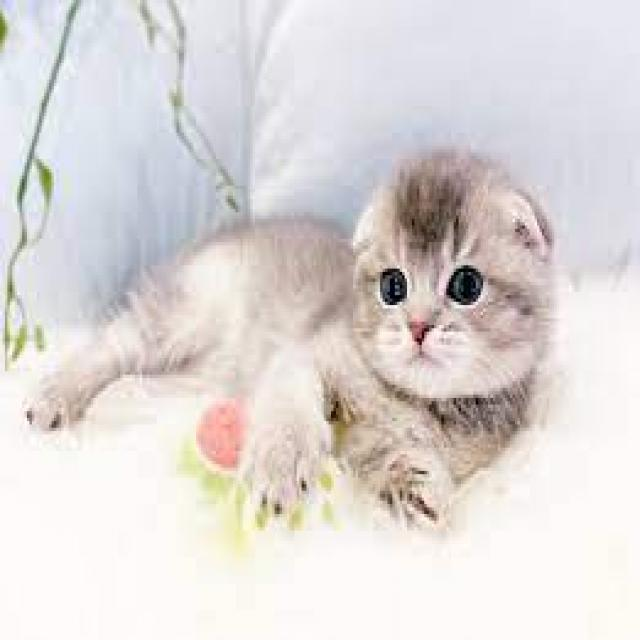cat-face: (328, 106, 606, 457)
